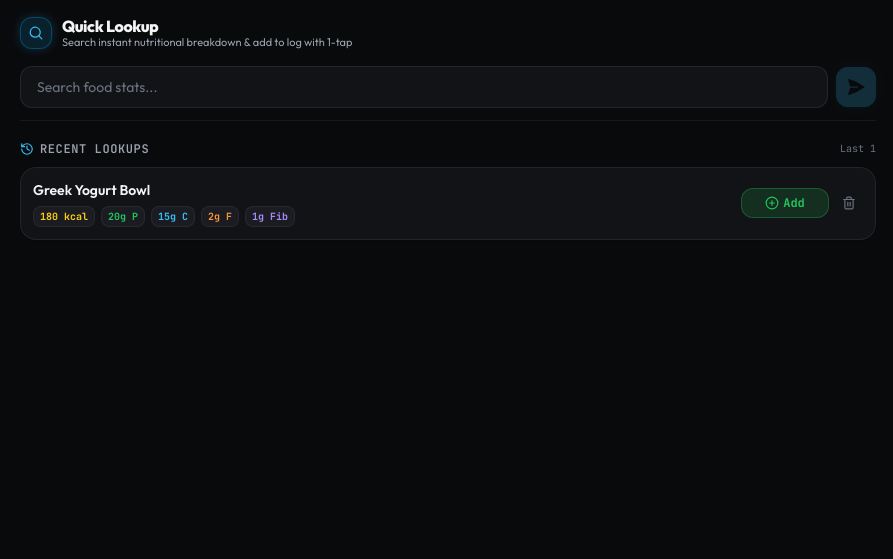
Test: LookupPanel Component › allows dismissing a lookup card from current search results
This screenshot has width=893, height=559.
Type "2 eggs" into the field with placeholder "Search food stats...". click: x=424, y=87
box: [20,66,828,108]
Then press Enter
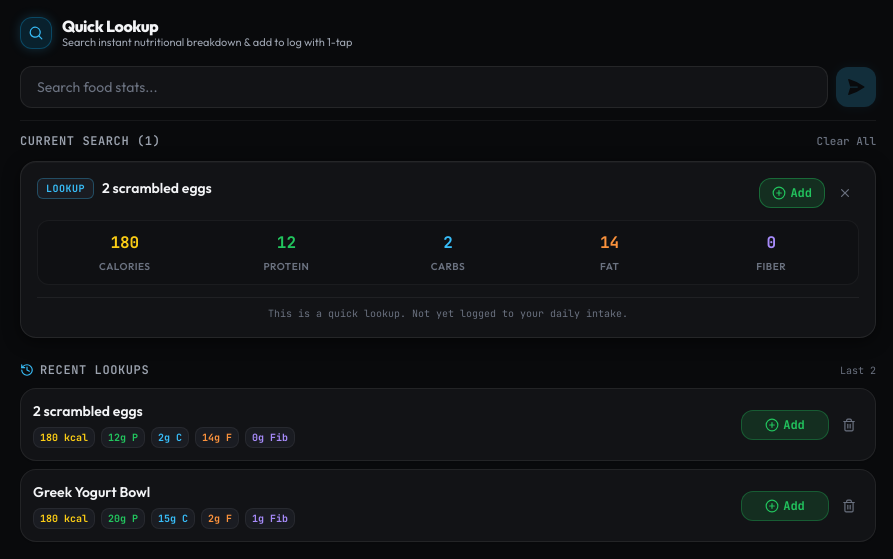
Result: the text "Current Search (1)" is shown at [20,133,160,149]
Note: Dismiss card
Click the button titled "dismiss". click: x=845, y=193
box: [831,179,859,207]
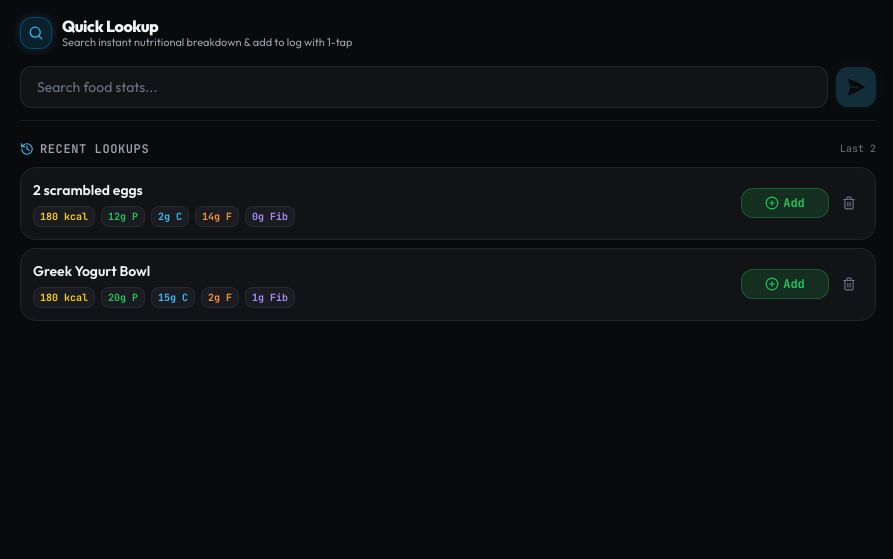
Result: the text "Current Search" is gone
